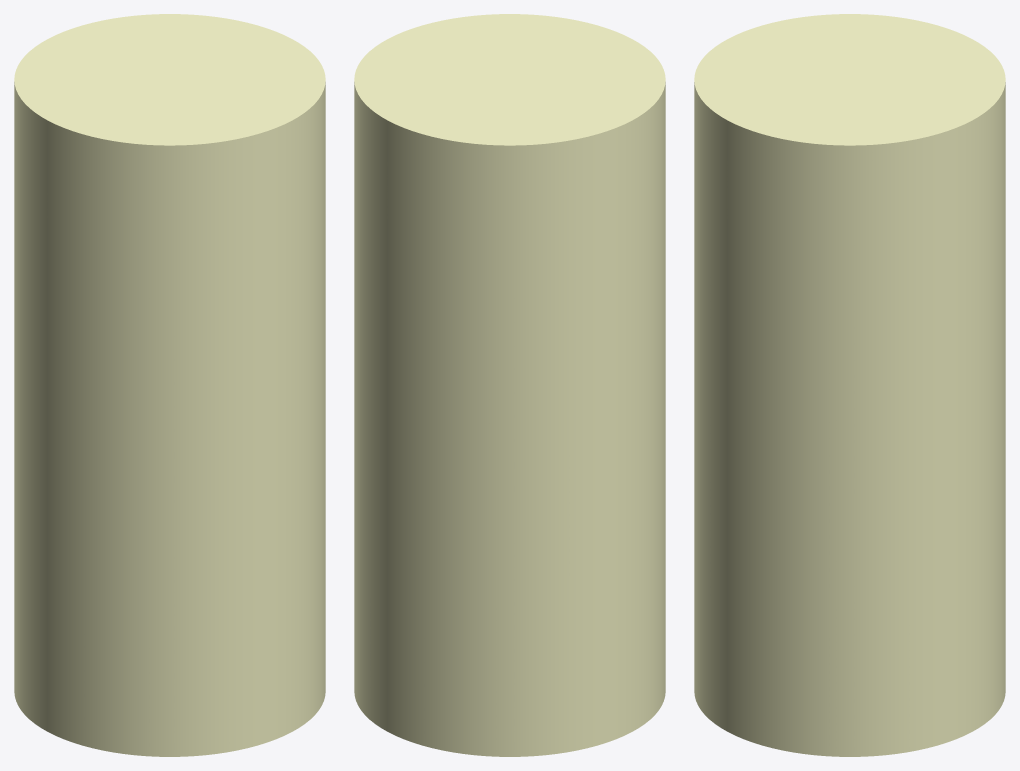
Rendered from OUTFITTING_INTERIOR__EXT. INSTRUMENTS__Signal Mate LED Anchor Light.glb.
3 renders of one model, left to right at view 1: azimuth 30°, elevation 25°; view 2: azimuth 150°, elevation 25°; view 3: azimuth 270°, elevation 25°, orthographic.
Parts seen in each view (by area): view 1: Signal Mate LED Anchor Light; view 2: Signal Mate LED Anchor Light; view 3: Signal Mate LED Anchor Light.
Part boxes in pixels (x1,y1,x2,y2): Signal Mate LED Anchor Light: [14, 14, 325, 756]; Signal Mate LED Anchor Light: [354, 14, 665, 756]; Signal Mate LED Anchor Light: [694, 14, 1005, 756].
Bounding box in the file's own units: 0.0381 × 0.0826 × 0.0381.
